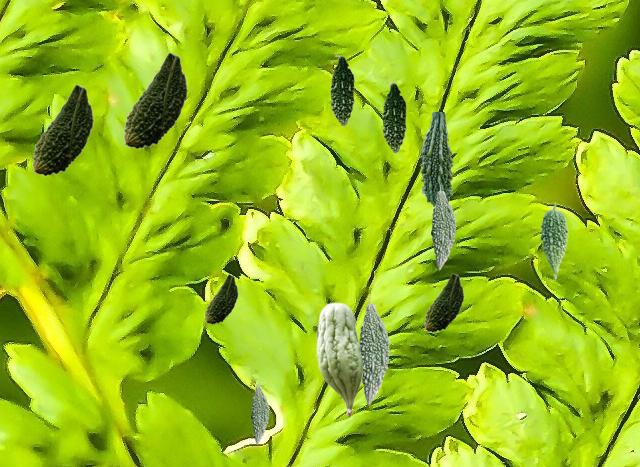ampalaya: (123, 52, 187, 148), (32, 84, 93, 175), (316, 302, 362, 416), (359, 294, 389, 404), (419, 112, 452, 206), (424, 273, 463, 331), (540, 202, 567, 279), (431, 183, 455, 269), (382, 81, 407, 153), (330, 54, 355, 126), (205, 274, 237, 323), (251, 380, 268, 443)
